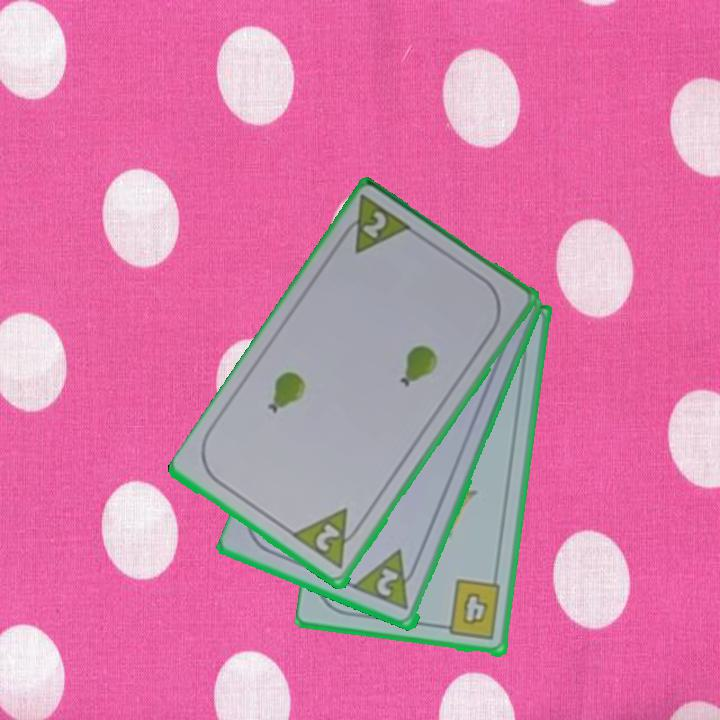2p: (334, 192, 416, 258), (312, 520, 343, 556), (373, 565, 402, 600)
4b: (436, 577, 504, 644)
